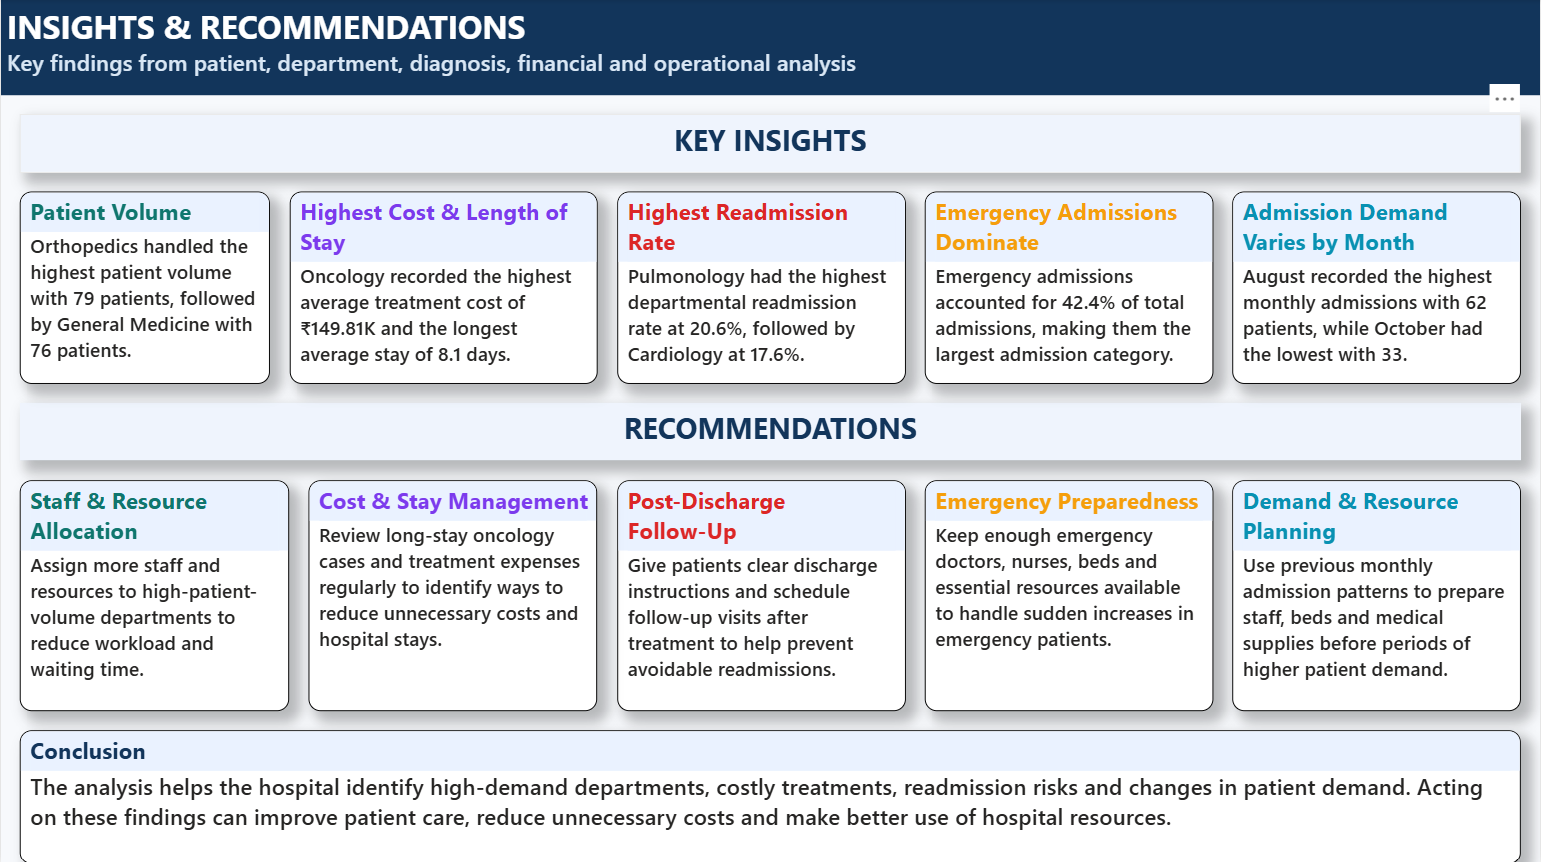

The page's visual inventory and layout, read from the dashboard file:
{"tool":"powerbi","page":{"name":"Insights & Recommendations","canvas":[1280,720],"ordinal":4},"visuals":[{"type":"textbox","box":[0,0,1280,80],"z":0},{"type":"textbox","box":[16,96,1248,48],"z":1000},{"type":"textbox","title":"Patient Volume","box":[16,160,208,160],"z":2000},{"type":"textbox","title":"Highest Cost & Length of Stay","box":[240,160,256,160],"z":3000},{"type":"textbox","title":"Highest Readmission Rate","box":[512,160,240,160],"z":4000},{"type":"textbox","title":"Emergency Admissions Dominate","box":[768,160,240,160],"z":5000},{"type":"textbox","title":"Admission Demand Varies by Month","box":[1024,160,240,160],"z":6000},{"type":"textbox","box":[16,336,1248,48],"z":7000},{"type":"textbox","title":"Staff & Resource Allocation","box":[16,400,224,192],"z":8000},{"type":"textbox","title":"Post-Discharge Follow-Up","box":[512,400,240,192],"z":9000},{"type":"textbox","title":"Cost & Stay Management","box":[256,400,240,192],"z":10000},{"type":"textbox","title":"Emergency Preparedness","box":[768,400,240,192],"z":11000},{"type":"textbox","title":"Demand & Resource Planning","box":[1024,400,240,192],"z":12000},{"type":"textbox","title":"Conclusion","box":[16,608,1248,112],"z":13000}]}

Visuals, with their boxes in screenshot pixels (x1, y1, x2, y2), scaled from the page's 1280x720 canvas onto the 1541x862 screenshot:
textbox: locate(0, 0, 1540, 96)
textbox: locate(19, 115, 1522, 172)
"Patient Volume" textbox: locate(19, 192, 270, 383)
"Highest Cost & Length of Stay" textbox: locate(289, 192, 597, 383)
"Highest Readmission Rate" textbox: locate(616, 192, 905, 383)
"Emergency Admissions Dominate" textbox: locate(925, 192, 1214, 383)
"Admission Demand Varies by Month" textbox: locate(1233, 192, 1522, 383)
textbox: locate(19, 402, 1522, 460)
"Staff & Resource Allocation" textbox: locate(19, 479, 289, 709)
"Post-Discharge Follow-Up" textbox: locate(616, 479, 905, 709)
"Cost & Stay Management" textbox: locate(308, 479, 597, 709)
"Emergency Preparedness" textbox: locate(925, 479, 1214, 709)
"Demand & Resource Planning" textbox: locate(1233, 479, 1522, 709)
"Conclusion" textbox: locate(19, 728, 1522, 861)
